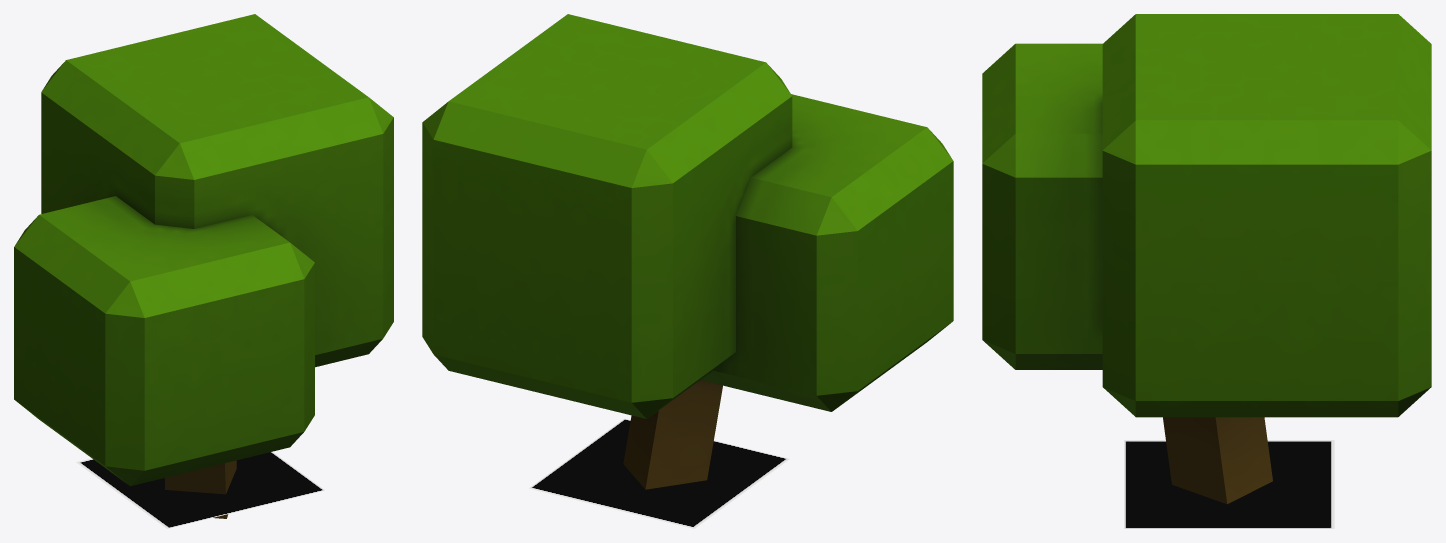
Rendered from 1x1_bush.FBX.
3 renders of one model, left to right at view 1: azimuth 30°, elevation 25°; view 2: azimuth 150°, elevation 25°; view 3: azimuth 270°, elevation 25°, orthographic. The views are drawn at different scales.
Visible parts, largest first — view 1: 1x1_bush, 1x1_bush_soft_shadow; view 2: 1x1_bush, 1x1_bush_soft_shadow; view 3: 1x1_bush, 1x1_bush_soft_shadow.
Boxes of the visible parts, x1,y1,x2,y2 form: 1x1_bush: [14, 14, 393, 518]; 1x1_bush_soft_shadow: [76, 451, 324, 528]; 1x1_bush: [422, 14, 953, 489]; 1x1_bush_soft_shadow: [529, 418, 789, 528]; 1x1_bush: [982, 14, 1431, 504]; 1x1_bush_soft_shadow: [1124, 440, 1334, 528].
Bounding box in the file's own units: 987 × 1120 × 977.
